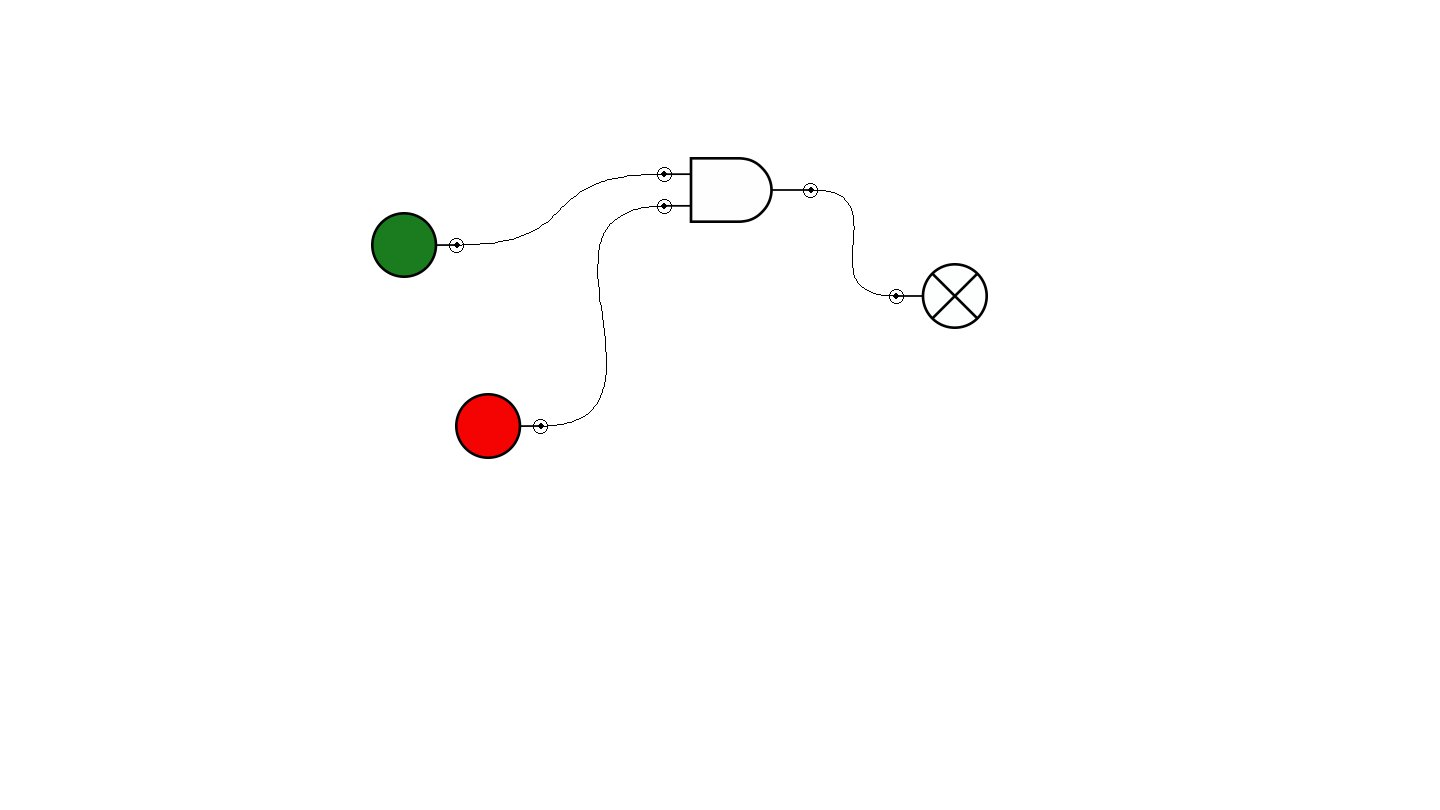and: (657, 157, 818, 223)
bulb: (889, 263, 988, 329)
switch_False: (455, 393, 548, 459)
switch_True: (371, 212, 464, 278)
